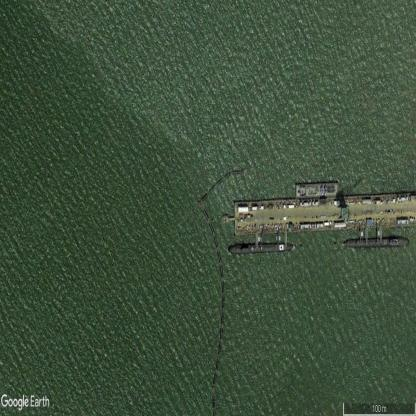ship: (228, 243, 295, 252), (343, 238, 410, 247)
